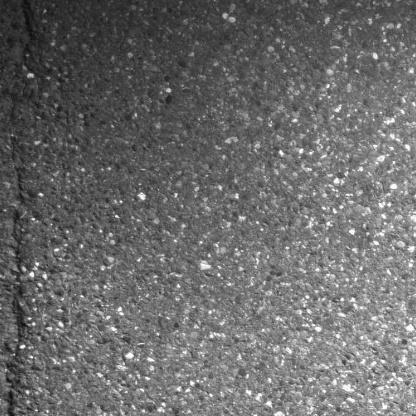Cracks: (4, 158, 38, 416), (15, 0, 48, 52)
